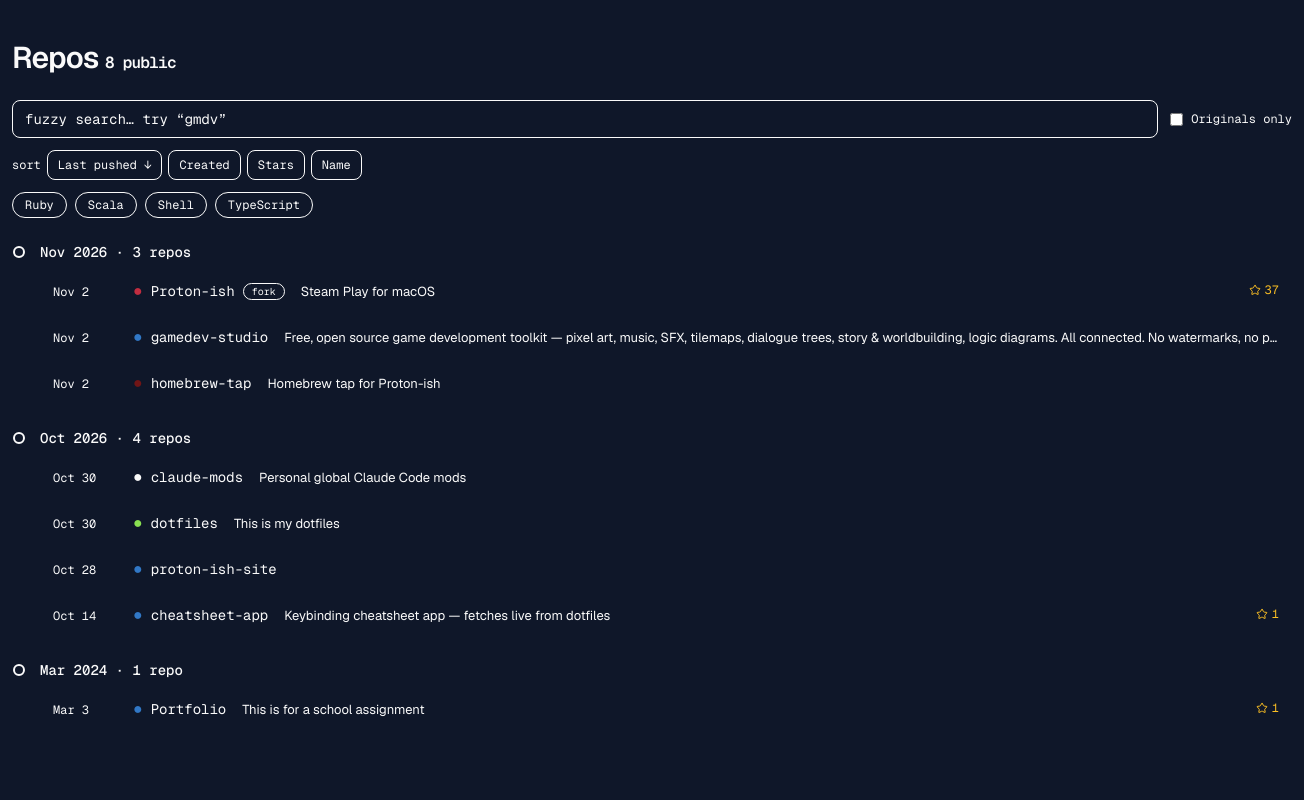
Scenario: RepoBrowser › should sort by creation date, newest first
The image size is (1304, 800).
Step 1. Click the button "Created" → (205, 165), box x1=168 y1=150 x2=241 y2=180
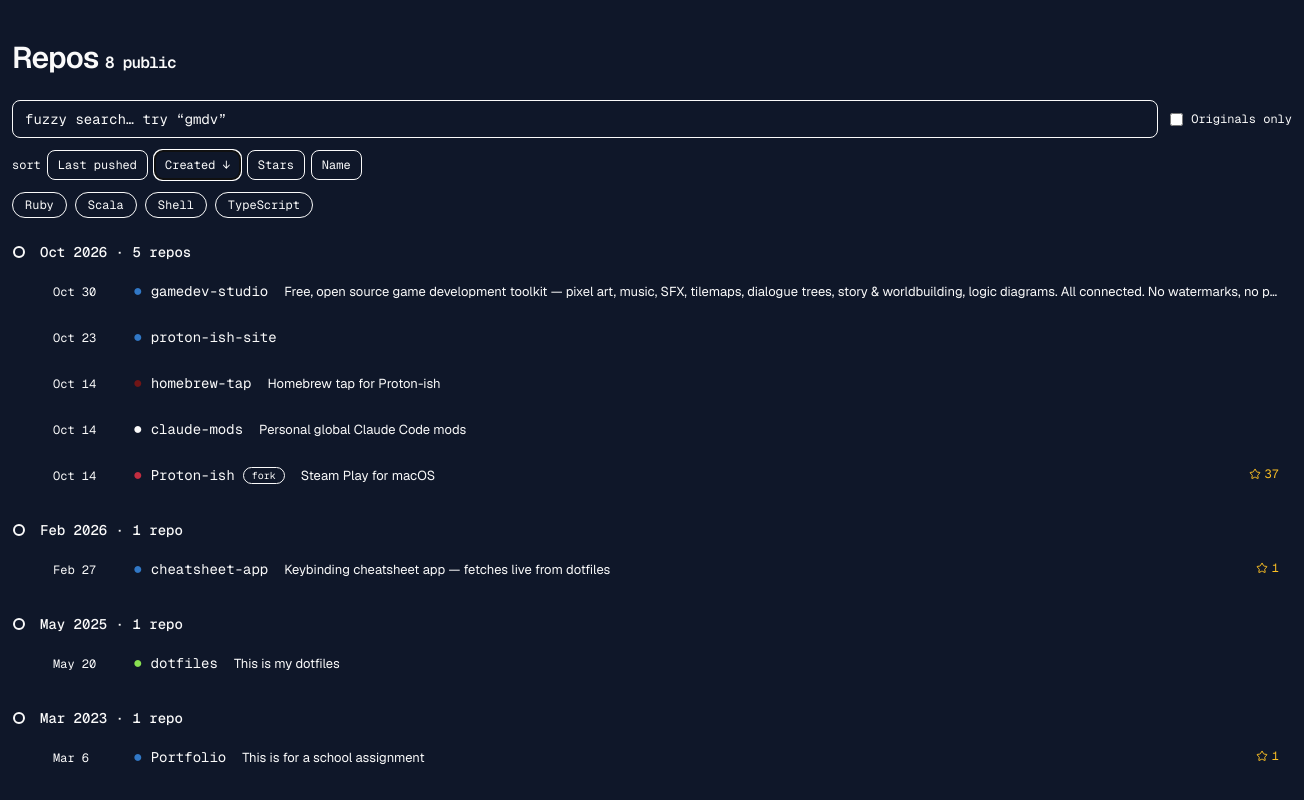
Now the heading "gamedev-studio" is shown, box x1=151 y1=281 x2=268 y2=301
